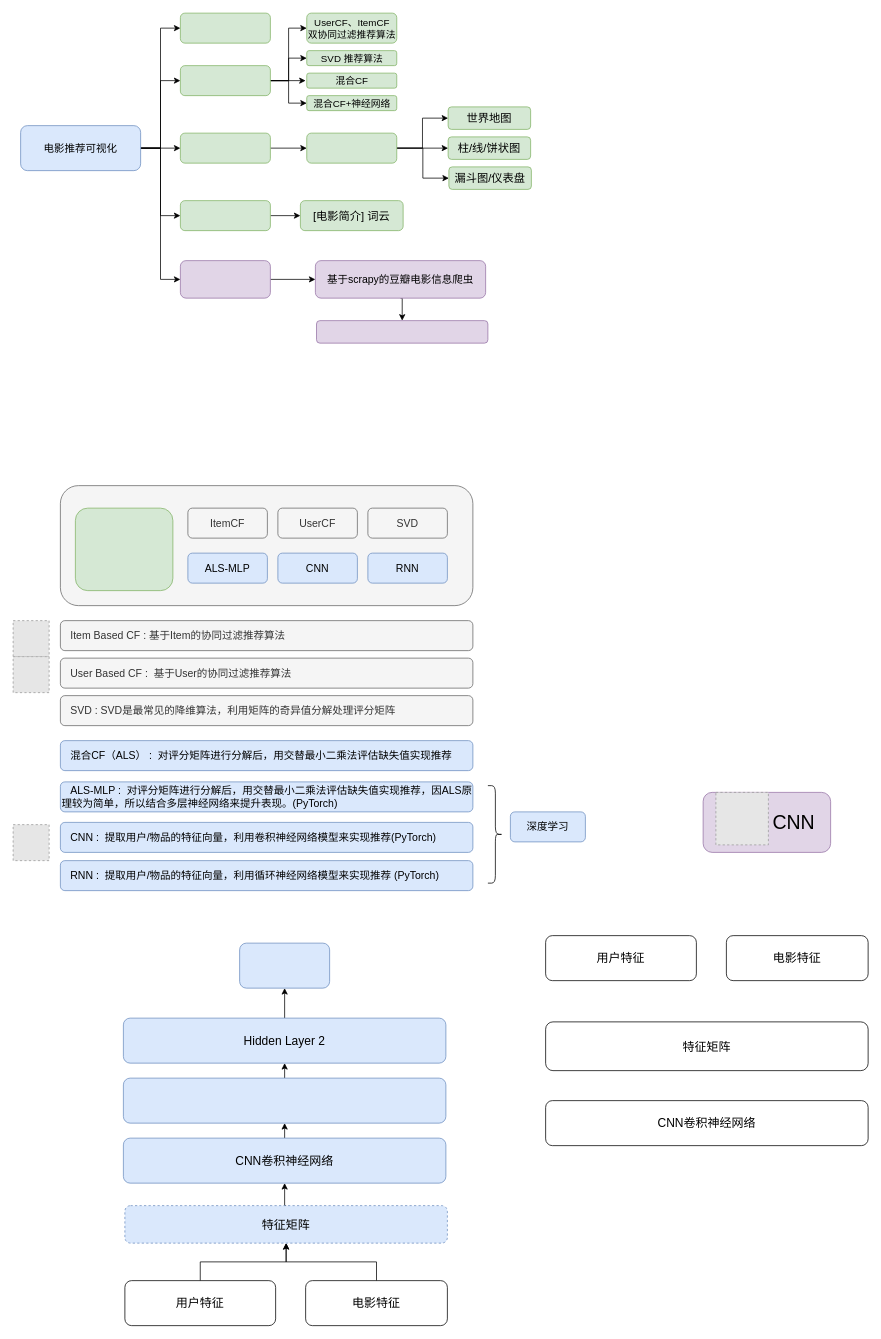
Image size: 881x1339. Some labels were removed from this diagram. Grey dashed boxes stand in for pictures. Here are the shapes that lost their labels. From the top down, the box of each, then its label:
(180, 12, 270, 43): 登录与注册
(180, 65, 270, 96): 电影推荐
(180, 132, 270, 163): 数据分析可视化
(306, 132, 397, 163): Echarts 可视化
(180, 200, 270, 231): 词 云
(180, 260, 270, 298): 豆瓣电影数爬虫
(316, 320, 488, 343): 爬取电影基础信息
(75, 507, 173, 591): 推荐算法
(239, 942, 330, 988): 预测输出
(123, 1077, 446, 1123): Hidden Layer 1
